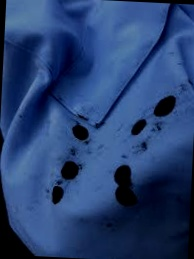ink: (113, 166, 138, 207), (154, 96, 175, 117), (61, 161, 79, 179), (71, 124, 88, 141), (51, 185, 63, 206), (133, 119, 147, 134)
